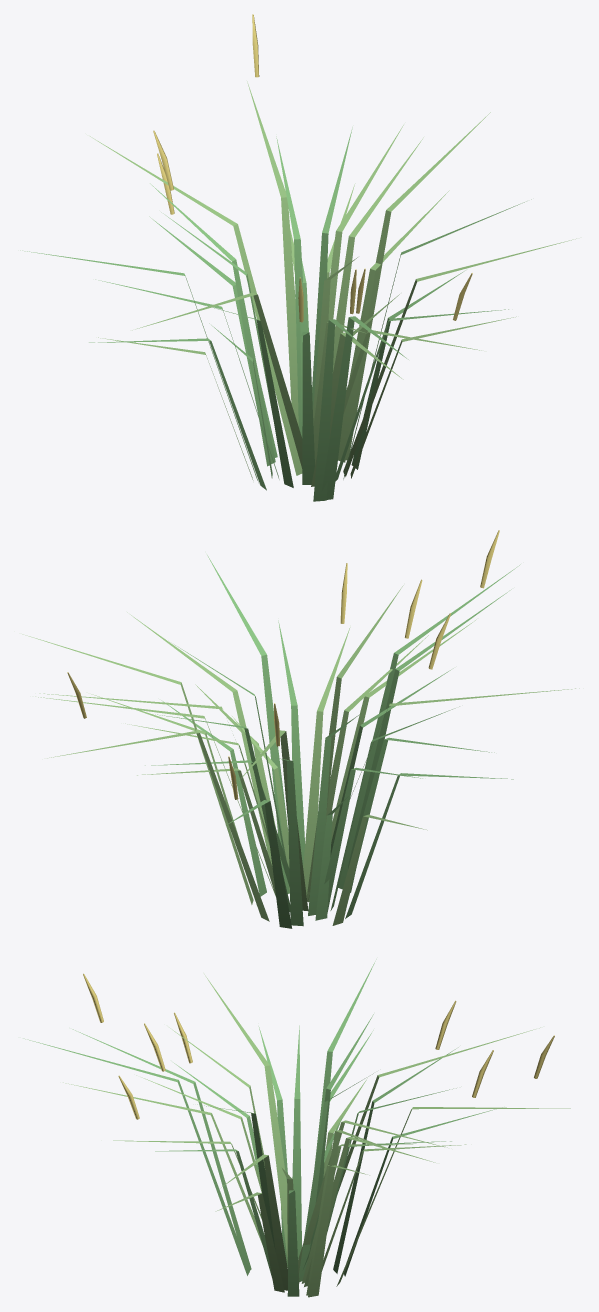
Rendered from strandgras_2.glb.
3 renders of one model, top to bottom at view 1: azimuth 30°, elevation 25°; view 2: azimuth 150°, elevation 25°; view 3: azimuth 270°, elevation 25°, orthographic. The views are drawn at different scales.
Visible parts, largest first — view 1: G_strandgras_2; view 2: G_strandgras_2; view 3: G_strandgras_2.
Part boxes in pixels (left/top/right/bottom): G_strandgras_2: left=20, top=14, right=576, bottom=501; G_strandgras_2: left=22, top=530, right=579, bottom=928; G_strandgras_2: left=23, top=959, right=570, bottom=1297.
Bounding box in the file's own units: 2.91 × 1.86 × 3.42.
